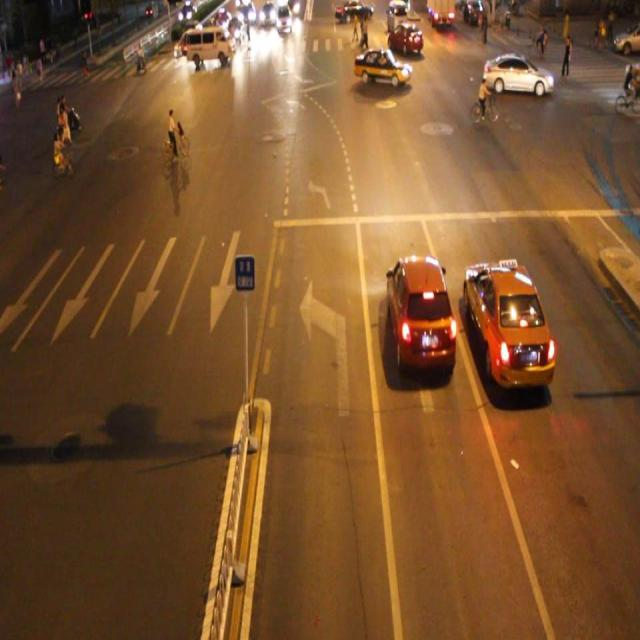car: (465, 260, 553, 386), (386, 254, 455, 374), (482, 52, 550, 98), (351, 46, 411, 87), (387, 20, 422, 56)
truck: (184, 27, 235, 67)
